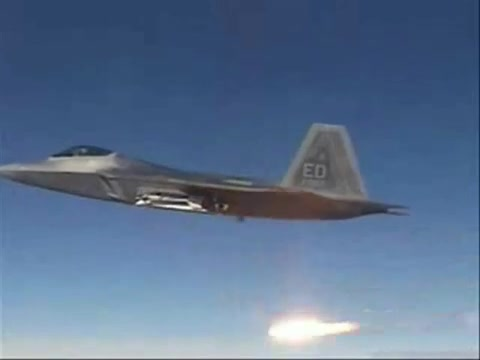aeroplane: (1, 123, 411, 223)
